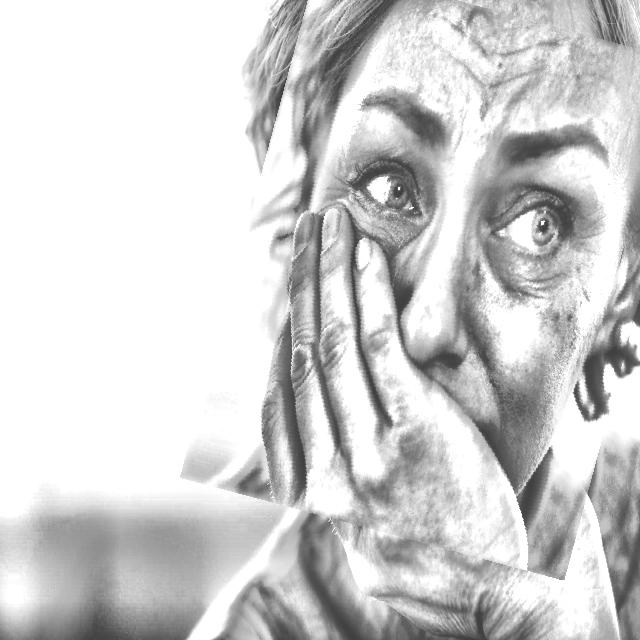sad: (211, 0, 640, 558)
